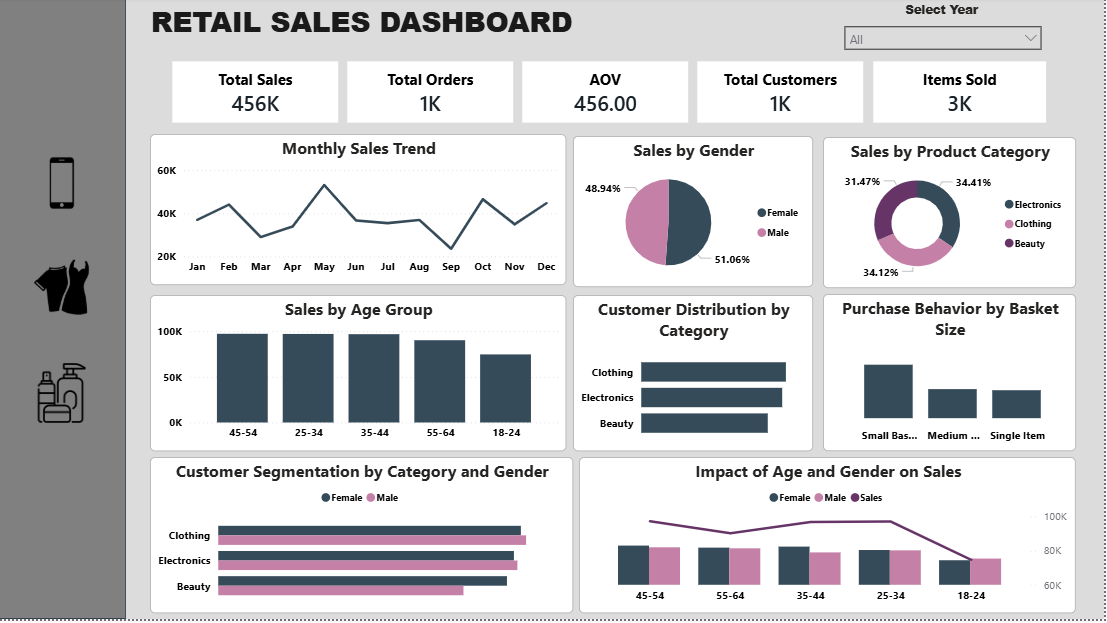

The page's visual inventory and layout, read from the dashboard file:
{"tool":"powerbi","page":{"name":"Dashboard","canvas":[1280,720],"ordinal":0},"visuals":[{"type":"textbox","box":[164.4,0,512.8,56.7],"z":0},{"type":"cardVisual","fields":{"Data":["retail_sales_dataset.Total Sales"]},"box":[196.8,69.5,202.6,81],"z":1000},{"type":"cardVisual","fields":{"Data":["retail_sales_dataset.Total Orders"]},"box":[399.4,69.5,202.6,81],"z":2000},{"type":"cardVisual","fields":{"Data":["retail_sales_dataset.AOV"]},"box":[601.9,69.5,202.6,81],"z":3000},{"type":"cardVisual","fields":{"Data":["retail_sales_dataset.Total Customers"]},"box":[804.5,69.5,202.6,81],"z":4000},{"type":"cardVisual","fields":{"Data":["retail_sales_dataset.Total Quantity Sold"]},"box":[1008.2,69.5,210.7,81],"z":5000},{"type":"pieChart","title":"Sales by Gender","fields":{"Category":["retail_sales_dataset.Gender"],"Y":["retail_sales_dataset.Total Sales"]},"box":[665.6,160.9,277.8,174.8],"z":6000},{"type":"lineChart","title":"Monthly Sales Trend","fields":{"Y":["retail_sales_dataset.Total Sales"],"Category":["retail_sales_dataset.Month"]},"box":[175.9,158.6,481.5,174.8],"z":7000},{"type":"donutChart","title":"Sales by Product Category","fields":{"Category":["retail_sales_dataset.Category"],"Y":["retail_sales_dataset.Total Sales"]},"box":[955,162.1,292.9,174.8],"z":8000},{"type":"clusteredColumnChart","title":"Sales by Age Group","fields":{"Category":["retail_sales_dataset.Age_Bracket"],"Y":["retail_sales_dataset.Total Sales"]},"box":[175.9,345,481.5,180.6],"z":9000},{"type":"clusteredBarChart","title":"Customer Distribution by Category","fields":{"Category":["retail_sales_dataset.Category"],"Y":["retail_sales_dataset.Total Customers"]},"box":[665.6,345,277.8,180.6],"z":10000},{"type":"clusteredBarChart","title":"Customer Segmentation by Category and Gender","fields":{"Category":["retail_sales_dataset.Category"],"Series":["retail_sales_dataset.Gender"],"Y":["retail_sales_dataset.Total Orders"]},"box":[175.9,532.5,489.6,180.6],"z":11000},{"type":"lineClusteredColumnComboChart","title":"Impact of Age and Gender on Sales","fields":{"Category":["retail_sales_dataset.Age_Bracket"],"Series":["retail_sales_dataset.Gender"],"Y2":["Sum(retail_sales_dataset.Sales)"],"Y":["retail_sales_dataset.Total Orders"]},"box":[672.5,532.5,575.3,180.6],"z":12000},{"type":"clusteredColumnChart","title":"Purchase Behavior by Basket Size","fields":{"Category":["retail_sales_dataset.Basket Size"],"Y":["retail_sales_dataset.Total Orders"]},"box":[955,343.8,292.9,181.7],"z":13000},{"type":"shape","box":[0,0,148.2,720],"z":14000},{"type":"slicer","fields":{"Values":["retail_sales_dataset.Year"]},"box":[968.9,28.9,250,35.9],"z":15000},{"type":"textbox","box":[1045.3,0,97.2,31.3],"z":16000},{"type":"image","box":[39.4,171.3,69.5,88],"z":17000},{"type":"image","box":[39.4,297.5,69.5,76.4],"z":18000},{"type":"image","box":[39.4,417.9,69.5,81],"z":19000}]}

Visuals, with their boxes in screenshot pixels (x1, y1, x2, y2), scaled from the page's 1280x720 canvas onto the 1107x623 screenshot:
textbox: box(142, 0, 586, 49)
cardVisual - retail_sales_dataset.Total Sales: box(170, 60, 345, 130)
cardVisual - retail_sales_dataset.Total Orders: box(345, 60, 521, 130)
cardVisual - retail_sales_dataset.AOV: box(521, 60, 696, 130)
cardVisual - retail_sales_dataset.Total Customers: box(696, 60, 871, 130)
cardVisual - retail_sales_dataset.Total Quantity Sold: box(872, 60, 1054, 130)
"Sales by Gender" pieChart: box(576, 139, 816, 290)
"Monthly Sales Trend" lineChart: box(152, 137, 569, 288)
"Sales by Product Category" donutChart: box(826, 140, 1079, 292)
"Sales by Age Group" clusteredColumnChart: box(152, 299, 569, 455)
"Customer Distribution by Category" clusteredBarChart: box(576, 299, 816, 455)
"Customer Segmentation by Category and Gender" clusteredBarChart: box(152, 461, 576, 617)
"Impact of Age and Gender on Sales" lineClusteredColumnComboChart: box(582, 461, 1079, 617)
"Purchase Behavior by Basket Size" clusteredColumnChart: box(826, 297, 1079, 455)
shape: box(0, 0, 128, 622)
slicer - retail_sales_dataset.Year: box(838, 25, 1054, 56)
textbox: box(904, 0, 988, 27)
image: box(34, 148, 94, 224)
image: box(34, 257, 94, 324)
image: box(34, 362, 94, 432)
